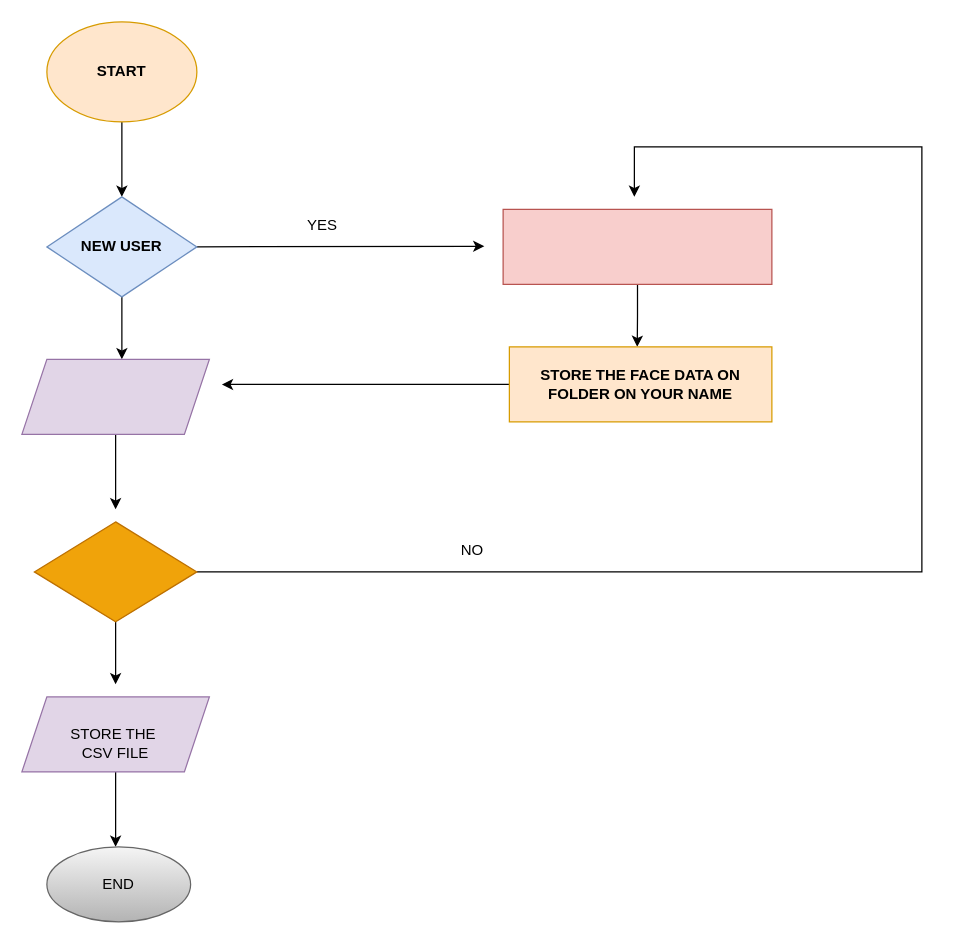
The diagram is 954 pixels wide and 944 high, and some of its shapes have lost their labels. Each missing label, with the centre of its shape:
"GIVE YOUR PHOTOGRAPHY" goes at (x=637, y=246).
"RECOGNIZE THE FACE" goes at (x=115, y=396).
"RECOGNIZED FACE" goes at (x=115, y=571).
